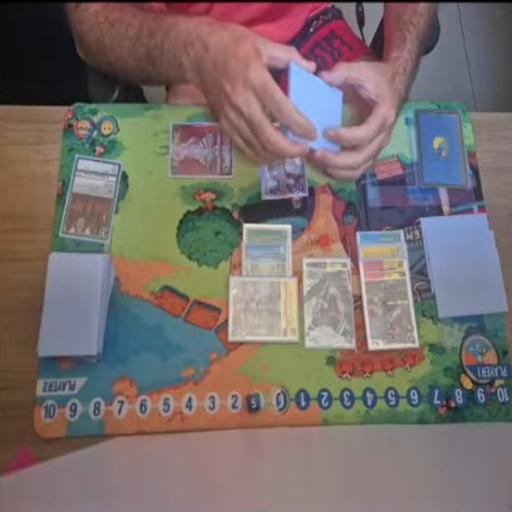card: (58, 157, 122, 246), (303, 256, 361, 353), (360, 261, 417, 351), (227, 275, 300, 345), (167, 122, 231, 180), (256, 151, 312, 204), (243, 240, 289, 276), (244, 224, 292, 248), (357, 222, 408, 244), (358, 242, 410, 260)
